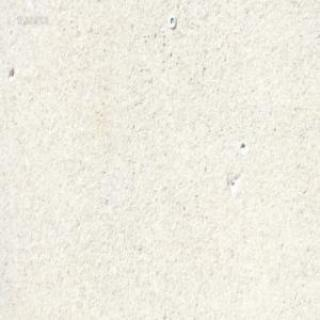Washertrack_idkeyframe: (167, 14, 175, 29)
